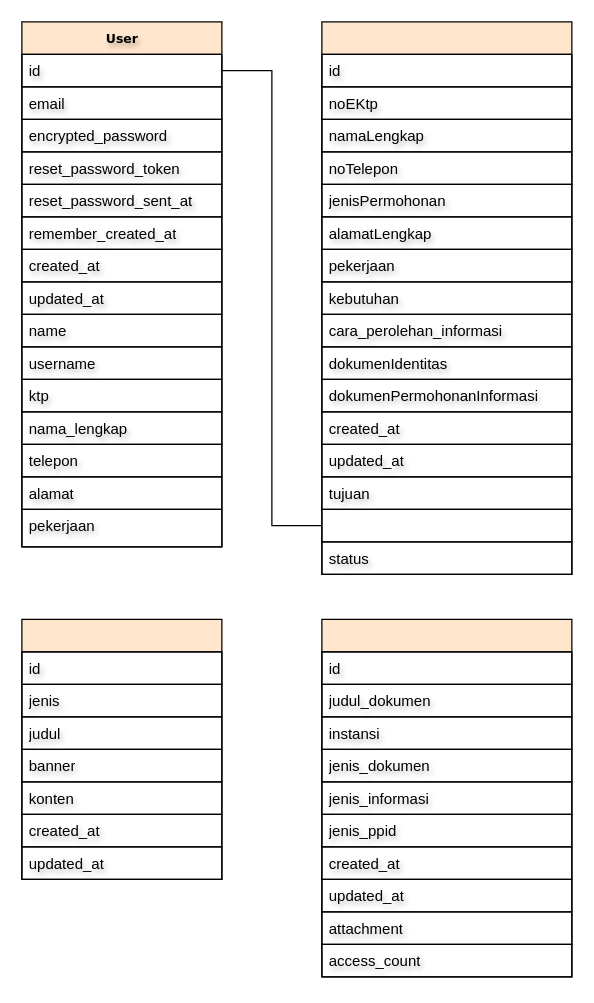
The diagram is 594 pixels wide and 1003 high, and some of its shapes have lost their labels. The box of each missing label's shape, as (x1, y1, x2, y2) in pixels:
Artikel: (21, 618, 222, 879)
Dokuman: (321, 618, 572, 977)
Pengajuaninformasi: (321, 21, 572, 574)
user_id: (321, 508, 572, 542)
